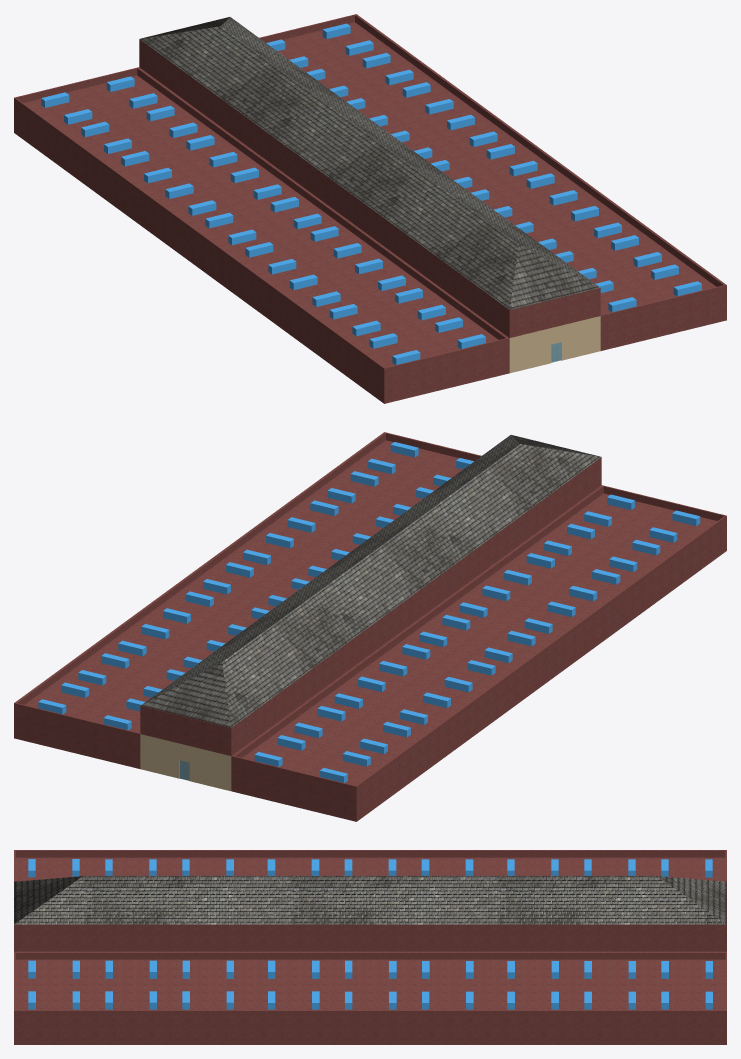
The model's file is Activated_Carbon_Filter.glb.
The picture shows the model from 3 angles, top to bottom: view 1: azimuth 30°, elevation 25°; view 2: azimuth 150°, elevation 25°; view 3: azimuth 270°, elevation 25°; orthographic projection. The views are drawn at different scales.
Parts seen in each view (by area): view 1: Floor1, Roof; view 2: Floor1, Roof; view 3: Floor1, Roof.
Boxes of the visible parts, left/top/right/bottom form: Floor1: left=14, top=14, right=726, bottom=403; Roof: left=139, top=17, right=600, bottom=337; Floor1: left=14, top=432, right=726, bottom=821; Roof: left=140, top=435, right=601, bottom=755; Floor1: left=14, top=850, right=726, bottom=1044; Roof: left=14, top=876, right=726, bottom=951.
Bounding box in the file's own units: 50.92 × 13 × 95.36.
Materials: 8 (7 with a texture image).
